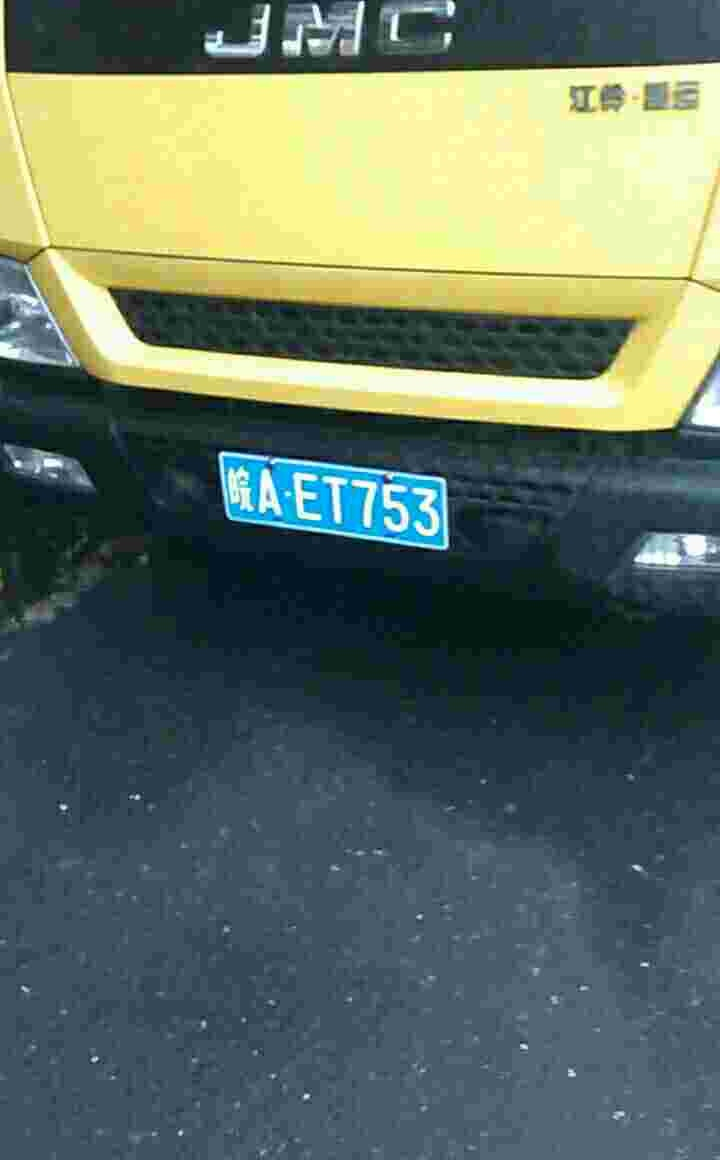plate: (217, 450, 454, 549)
